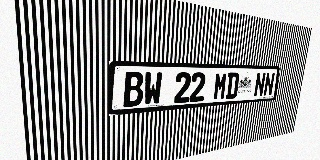2: (174, 72, 191, 103), (190, 72, 206, 102)
B: (123, 72, 144, 107)
D: (225, 72, 240, 99)
M: (213, 72, 228, 100)
N: (253, 73, 266, 97), (263, 73, 275, 96)
W: (143, 72, 163, 106)
